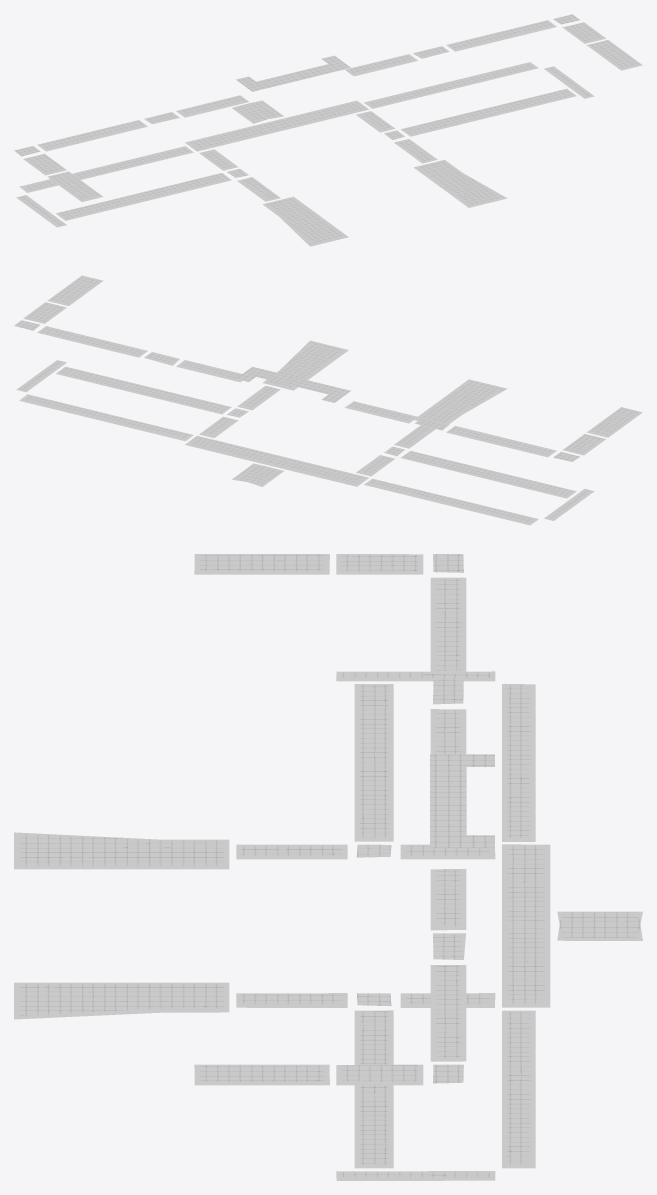
Rendered from trophyroom_InsideWallsCeiling.FBX.
The picture shows the model from 3 angles, top to bottom: view 1: azimuth 30°, elevation 25°; view 2: azimuth 150°, elevation 25°; view 3: azimuth 270°, elevation 25°; orthographic projection. The views are drawn at different scales.
Visible parts, largest first — view 1: trophyroom_InsideWallsCeiling; view 2: trophyroom_InsideWallsCeiling; view 3: trophyroom_InsideWallsCeiling.
Boxes of the visible parts, box(x1,y1,x2,y2) form: trophyroom_InsideWallsCeiling: box(14, 14, 642, 246); trophyroom_InsideWallsCeiling: box(14, 275, 642, 525); trophyroom_InsideWallsCeiling: box(14, 554, 642, 1180).
Bounding box in the file's own units: 9497 × 4752 × 1043.
